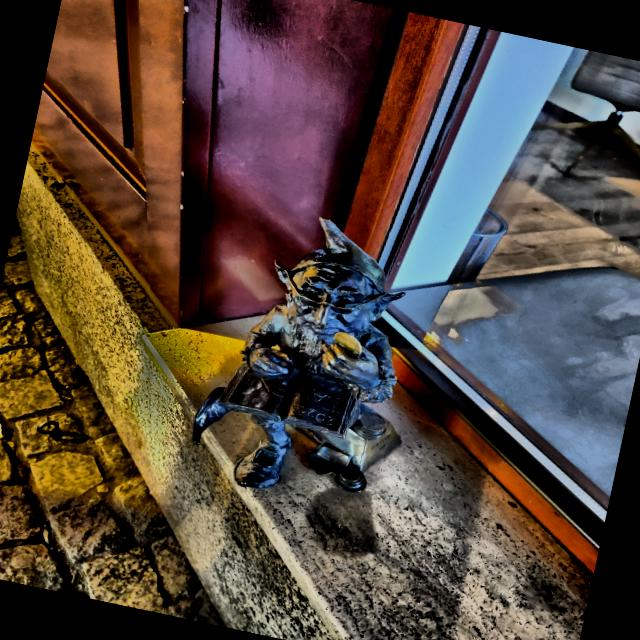Gaugan: (192, 217, 404, 492)
